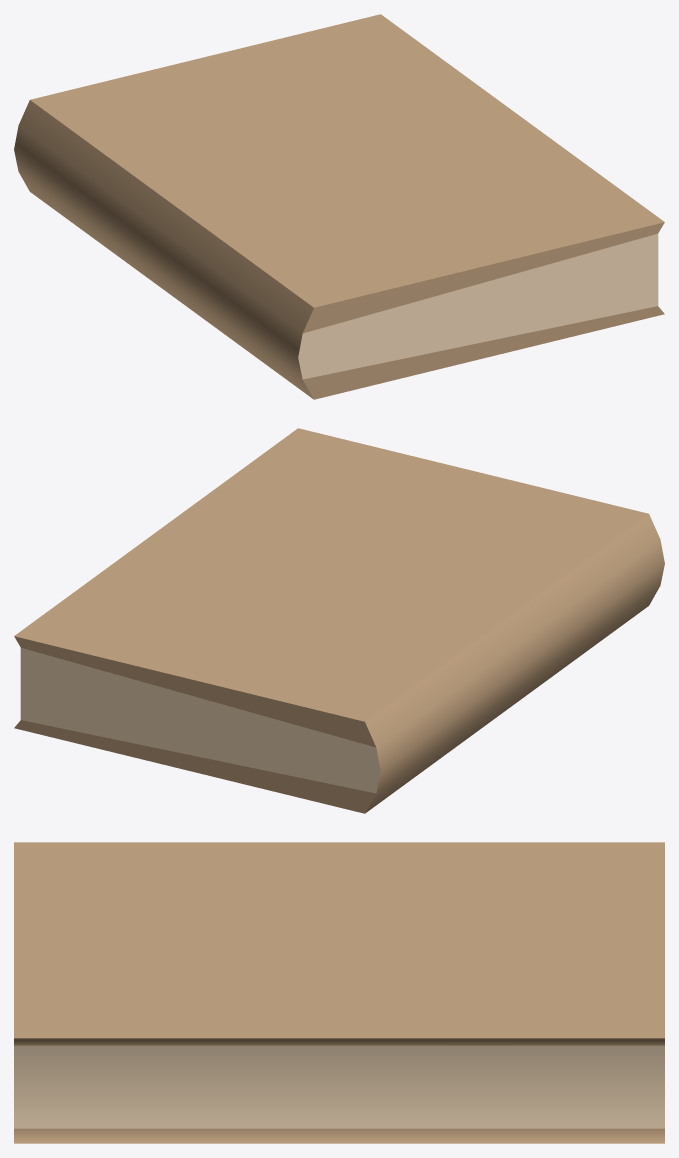
Rendered from closebook03.fbx.
The picture shows the model from 3 angles, top to bottom: view 1: azimuth 30°, elevation 25°; view 2: azimuth 150°, elevation 25°; view 3: azimuth 270°, elevation 25°; orthographic projection. The views are drawn at different scales.
Parts seen in each view (by area): view 1: pCube6; view 2: pCube6; view 3: pCube6.
Boxes of the visible parts, bbox=[...] form: pCube6: bbox=[14, 14, 664, 399]; pCube6: bbox=[14, 428, 664, 813]; pCube6: bbox=[14, 842, 664, 1143].
Size of the model in its own units: 2.52 by 0.6039 by 3.38.
